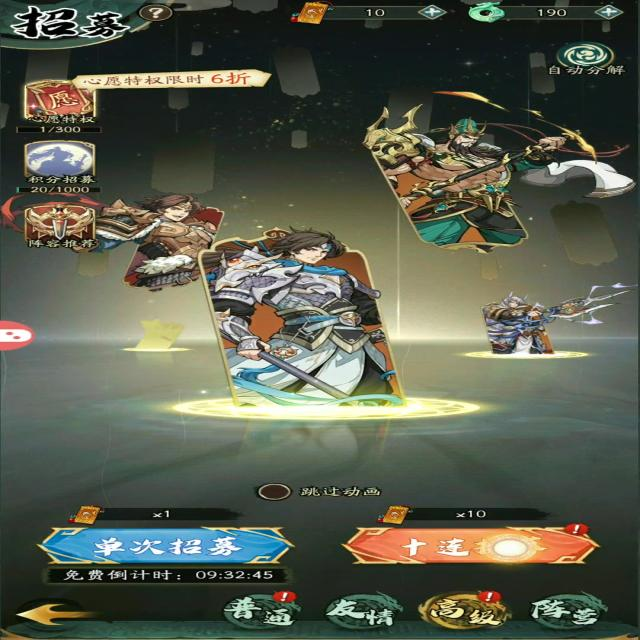hint-reddot: (469, 584, 502, 605), (556, 518, 588, 536), (272, 588, 298, 606)
operation-Automatic decomposition: (545, 39, 629, 75)
operation-PointsRecruit: (18, 135, 107, 195)
operation-Recommendedlineup: (7, 202, 111, 254)
operation-Wishprivilege: (12, 72, 123, 134)
operation-back: (18, 603, 86, 631)
operation-campRecruit: (530, 591, 602, 631)
operation-friendshipRecruit: (329, 588, 401, 637)
operation-ordinaryRecruit: (202, 590, 318, 635)
operation-rule: (137, 4, 188, 26)
operation-seniorRecruit: (419, 589, 510, 635)
operation-singleRecruit: (48, 530, 306, 570)
operation-tenRecruit: (332, 524, 608, 569)
system-protocol-box: (253, 473, 294, 501)
